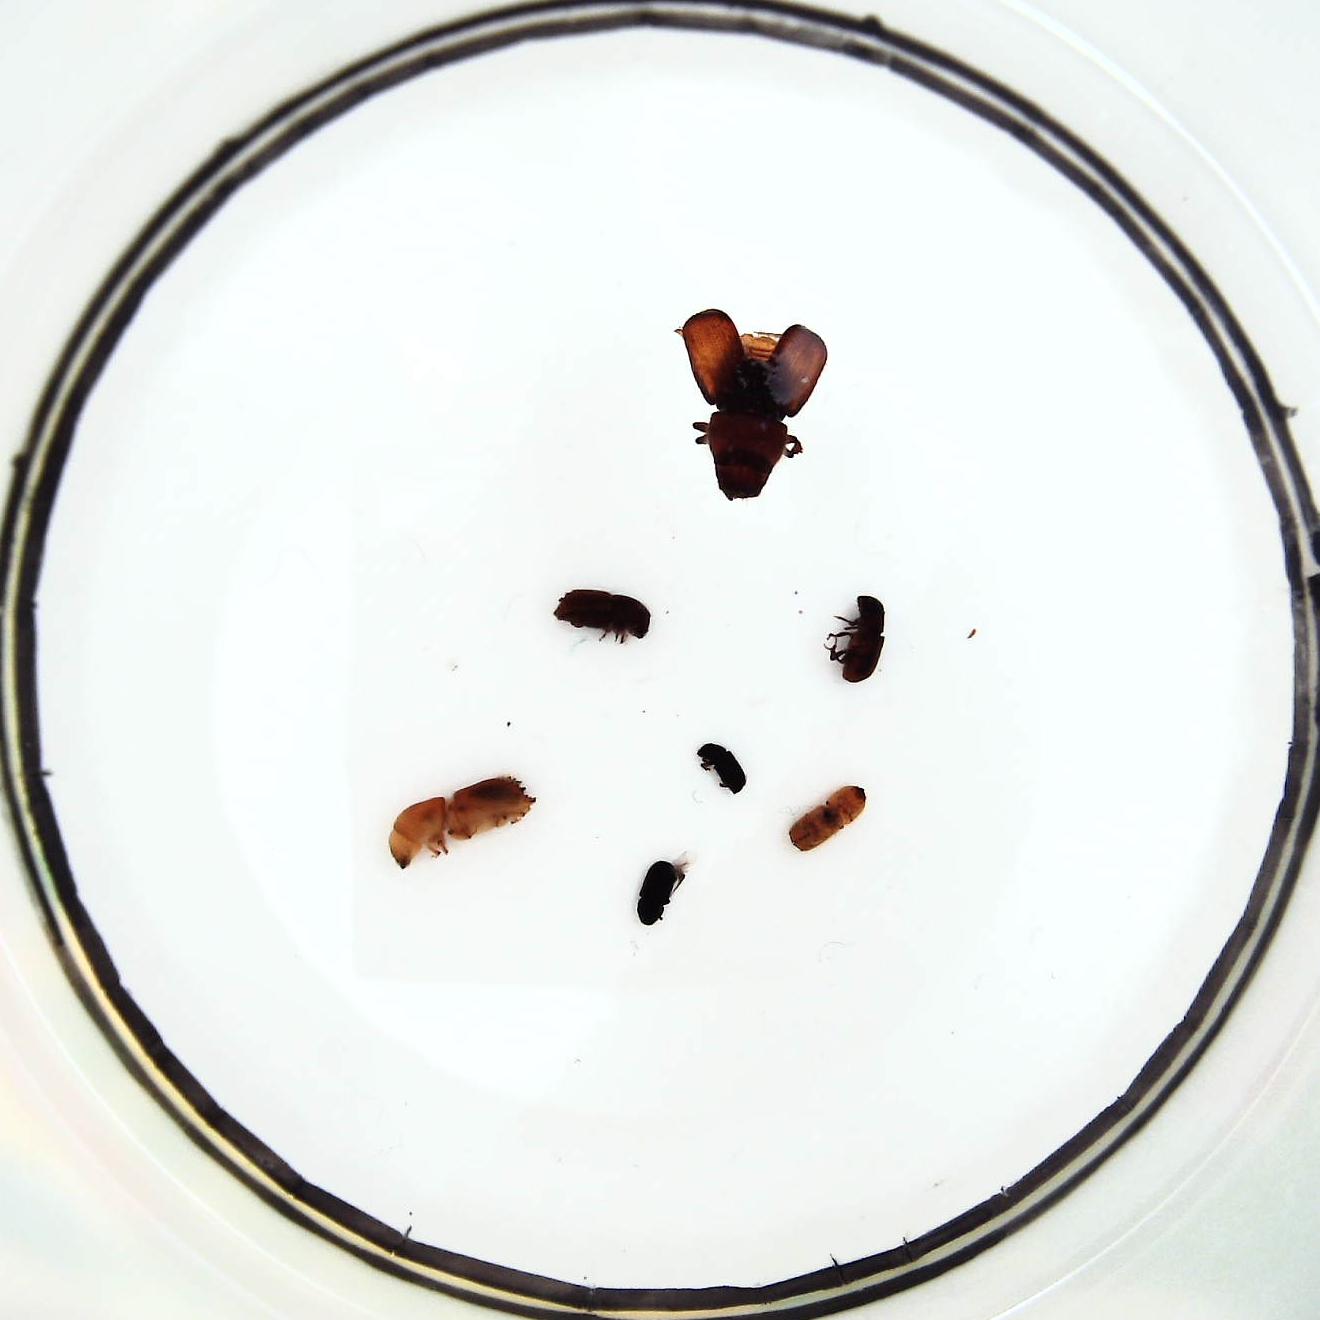Boerner: (393, 778, 529, 878)
Leconte: (676, 308, 830, 505)
Linnaeus: (554, 583, 655, 647)
acuminatus: (788, 785, 869, 856)
armandi: (830, 594, 890, 684)
coleoptera: (696, 739, 751, 798), (636, 859, 681, 926)
